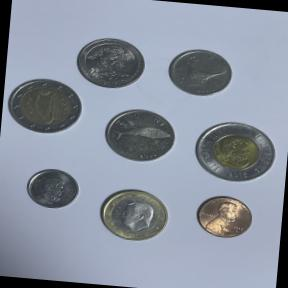1 Euro-B: (94, 181, 178, 247)
2 Euro-B: (1, 74, 87, 144)
Canada-10cent-B: (20, 166, 82, 216)
Canada-2Dollar-B: (188, 111, 284, 191)
Croatia-2Kune-B: (97, 100, 184, 172)
US-1cent-B: (189, 188, 258, 242)
US-25cent-B: (73, 35, 150, 94)
